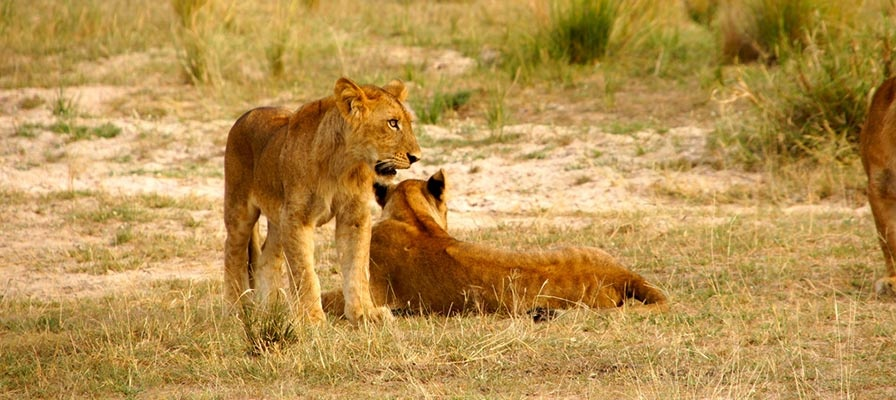lion: (317, 174, 683, 337), (216, 75, 428, 338)
